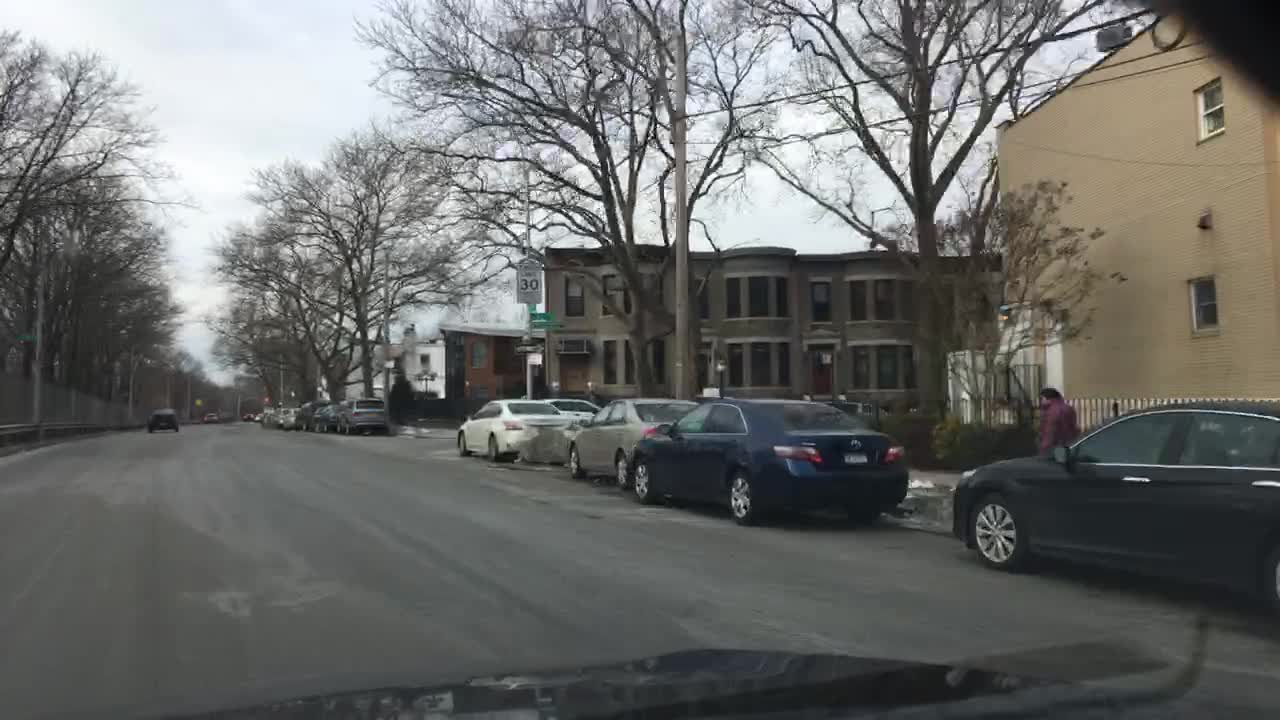car: (953, 401, 1277, 616), (626, 398, 910, 525), (567, 396, 696, 489), (455, 396, 568, 461), (339, 395, 390, 435), (546, 396, 602, 427), (144, 406, 182, 432), (295, 398, 325, 429), (315, 404, 344, 431), (269, 405, 286, 426), (281, 406, 296, 429), (259, 410, 272, 426), (203, 410, 219, 421), (252, 411, 262, 421), (242, 413, 252, 421)
person: (1033, 386, 1080, 454)
traffic sign: (516, 263, 542, 303), (513, 338, 543, 357), (527, 311, 556, 321), (531, 321, 563, 328)
